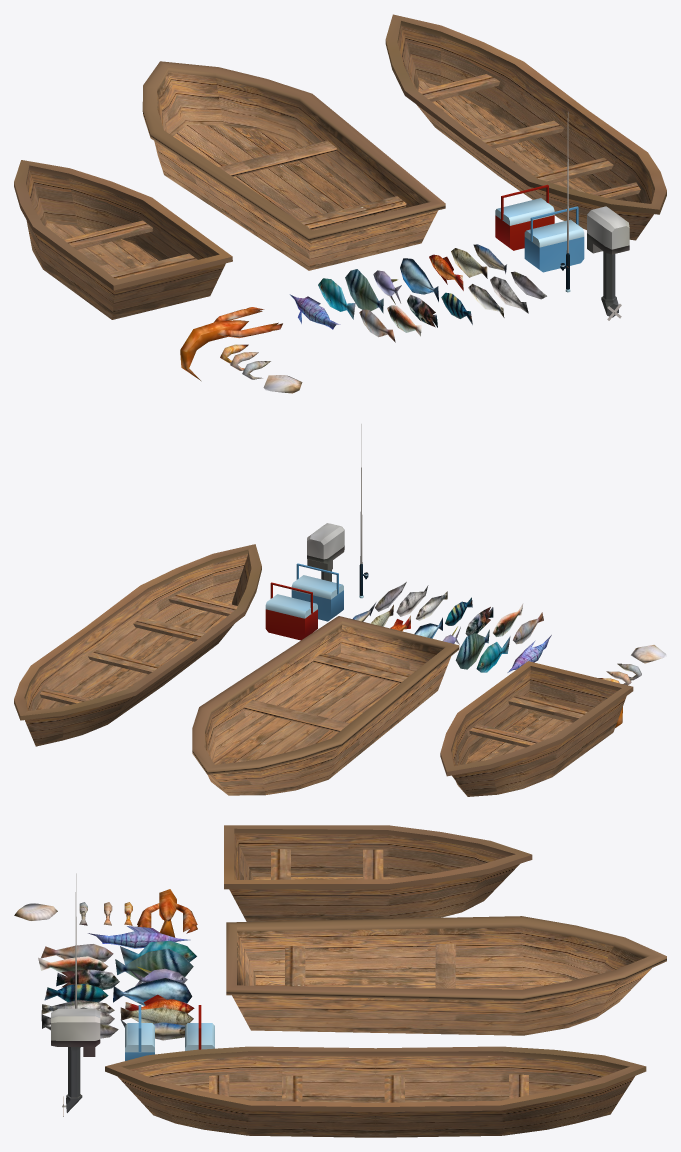
The model's file is Pesca.dae.
3 views of the same model, one above another, from view 1: azimuth 30°, elevation 25°; view 2: azimuth 150°, elevation 25°; view 3: azimuth 270°, elevation 25° (orthographic). The views are drawn at different scales.
Parts seen in each view (by area): view 1: Cube.001, Cube.016, Cube, Cube.017, Cube.018, Cube.019, Cylinder.002, Cube.013, Cube.009, Cube.015, Cylinder, Cube.005 (+2 smaller); view 2: Cube.001, Cube.016, Cube, Cube.019, Cube.018, Cube.017, Cube.013, Cube.015; view 3: Cube.001, Cube.016, Cube, Cube.017, Cube.013, Cube.009, Cylinder.002, Cube.018, Cylinder, Cube.010, Cube.005, Cube.019 (+9 smaller).
Part boxes in pixels (x1,y1,x2,y2): Cube.001: (142, 61, 445, 270); Cube.016: (385, 14, 666, 240); Cube: (14, 160, 232, 319); Cube.017: (587, 206, 629, 320); Cube.018: (524, 206, 584, 272); Cube.019: (495, 184, 554, 250); Cylinder.002: (180, 307, 282, 381); Cube.013: (345, 269, 383, 313); Cube.009: (400, 258, 438, 301); Cube.015: (318, 278, 355, 319); Cylinder: (289, 294, 340, 329); Cube.005: (451, 248, 487, 278); Cube.001: (192, 616, 459, 795); Cube.016: (14, 544, 261, 746); Cube: (440, 661, 633, 796); Cube.019: (265, 582, 317, 640); Cube.018: (291, 563, 343, 621); Cube.017: (307, 523, 344, 615); Cube.013: (455, 629, 489, 669); Cube.015: (476, 636, 510, 672); Cube.001: (226, 916, 666, 1035); Cube.016: (105, 1046, 646, 1137); Cube: (224, 825, 532, 921); Cube.017: (51, 1008, 100, 1116); Cube.013: (115, 948, 193, 982); Cube.009: (113, 978, 192, 1005); Cylinder.002: (137, 889, 197, 937); Cube.018: (125, 1005, 154, 1060); Cylinder: (88, 926, 190, 948); Cube.010: (56, 969, 119, 989); Cube.005: (120, 1007, 193, 1025); Cube.019: (185, 1005, 214, 1050).
Size of the model in its own units: 9.78 by 9.97 by 4.09.
2 materials, 2 textured.
